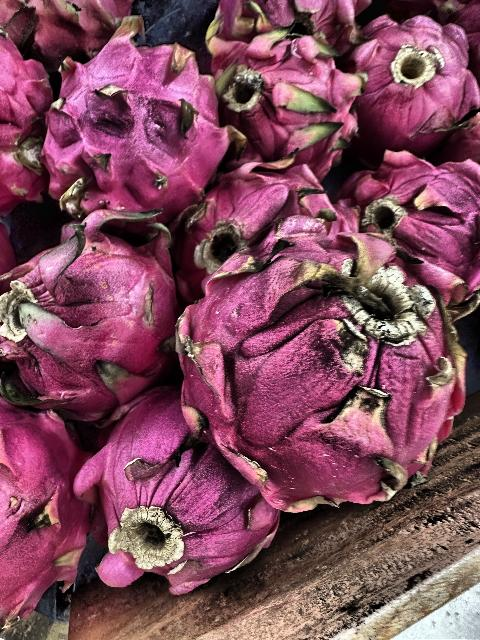buah-naga-matang: (173, 237, 469, 513), (89, 387, 285, 613), (46, 24, 242, 226), (0, 225, 184, 411), (194, 18, 376, 182), (338, 149, 480, 327), (177, 152, 362, 286), (1, 396, 96, 634), (344, 11, 476, 161), (1, 23, 56, 203)
